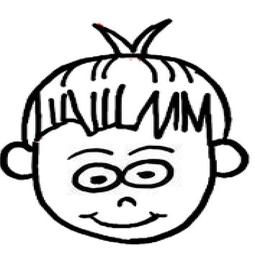ear: (208, 136, 251, 183), (0, 138, 37, 183)
eye: (66, 160, 122, 197), (122, 157, 176, 192)
eyebrow: (57, 145, 117, 160), (125, 143, 178, 157)
mouth: (77, 206, 170, 230)
nose: (113, 194, 140, 211)
